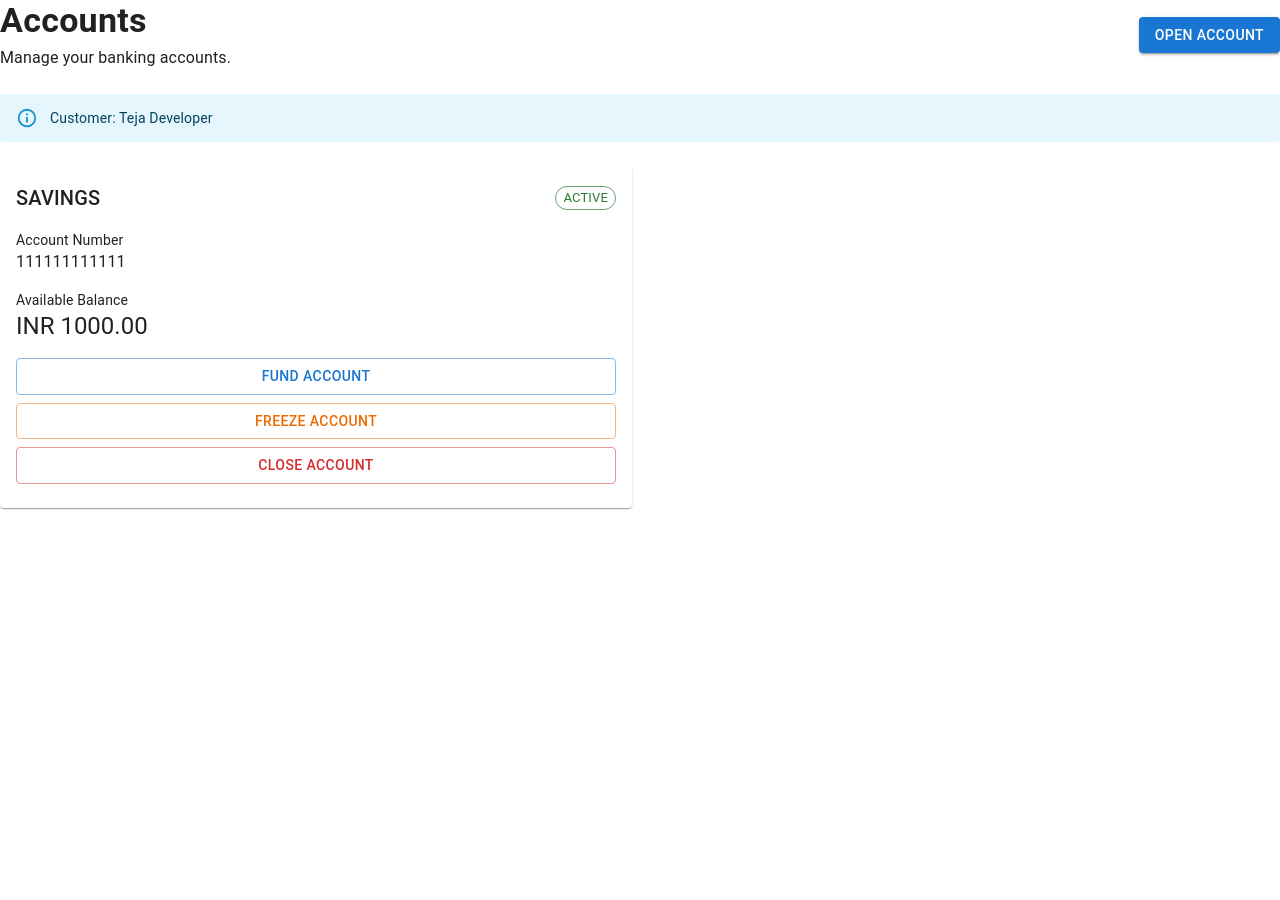
Test: Accounts › opens account dialog and creates a new account
Check: the text "111111111111" is shown, box [16,252,126,271]
Click the button "Open Account" at coordinates (1209, 35), box [1139,17,1279,53]
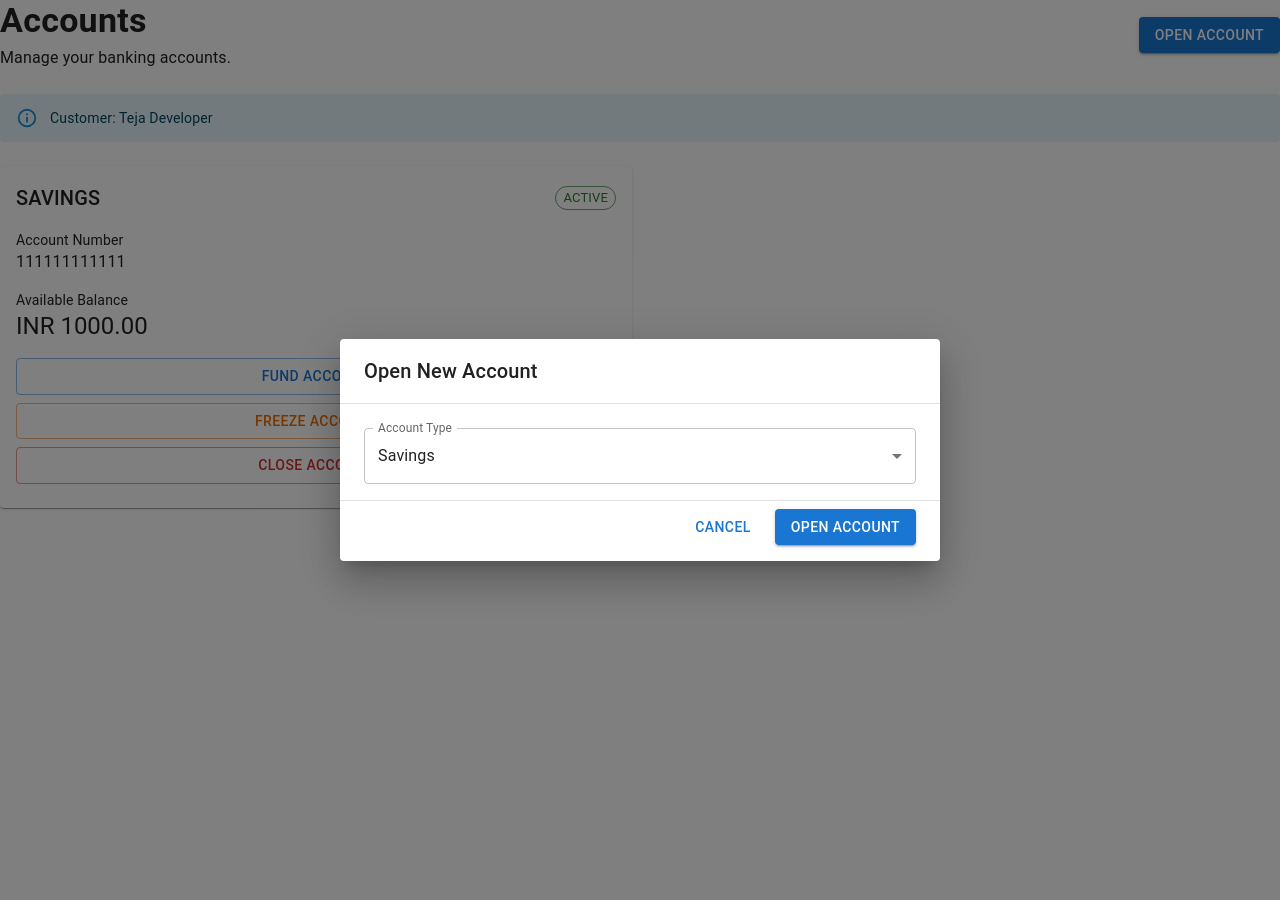
Check: the heading "Open New Account" is shown, box [364,359,538,383]
Click the button "Open Account" at coordinates (845, 527), box [775,509,916,545]
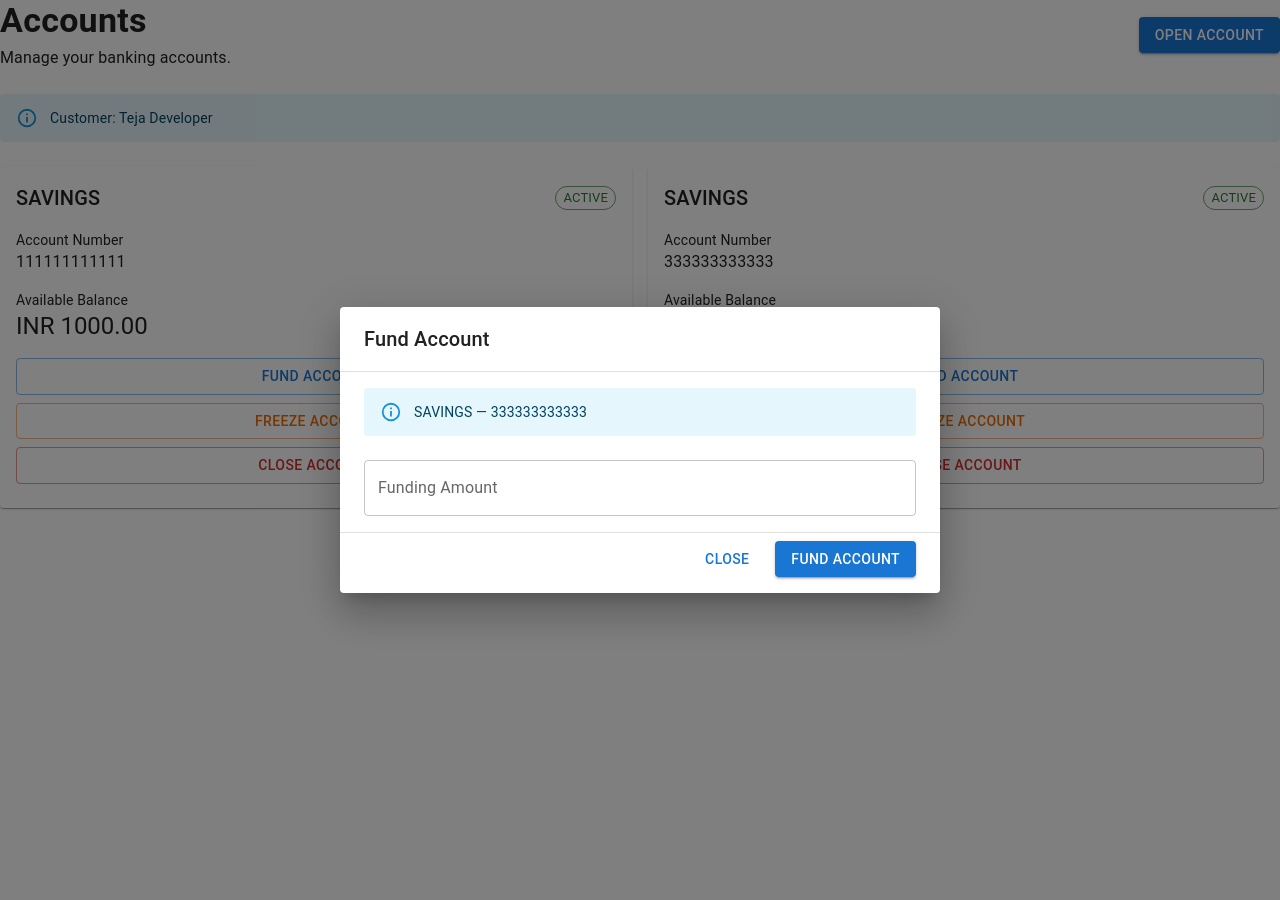
Check: the text "333333333333" is shown, box [664,252,774,271]
